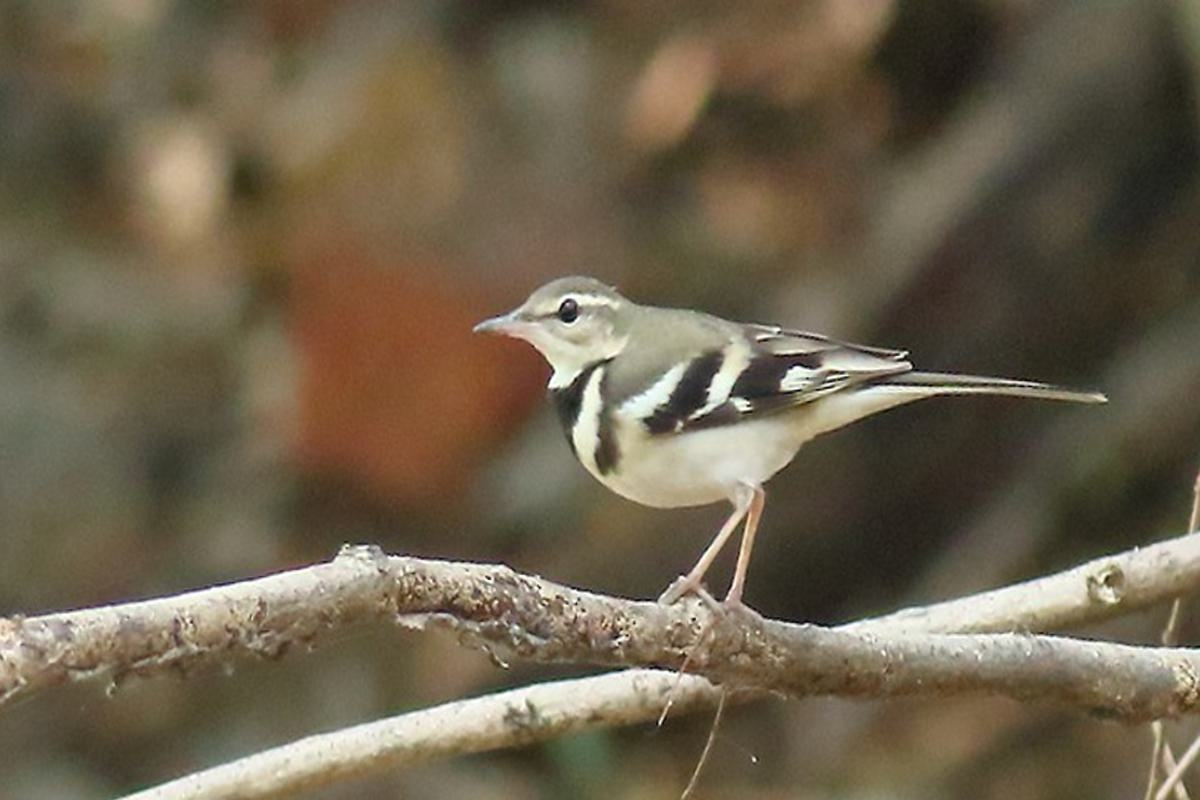wagtail: (483, 262, 926, 593)
